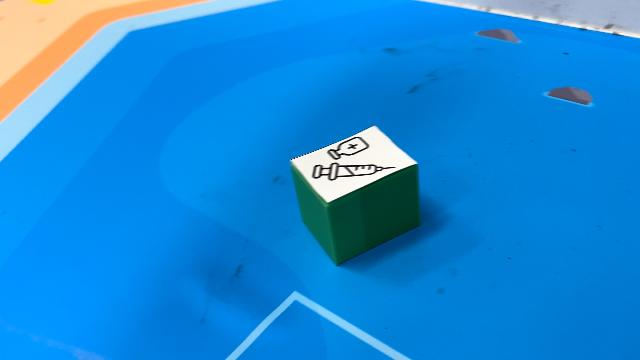syringe: (289, 124, 421, 266)
